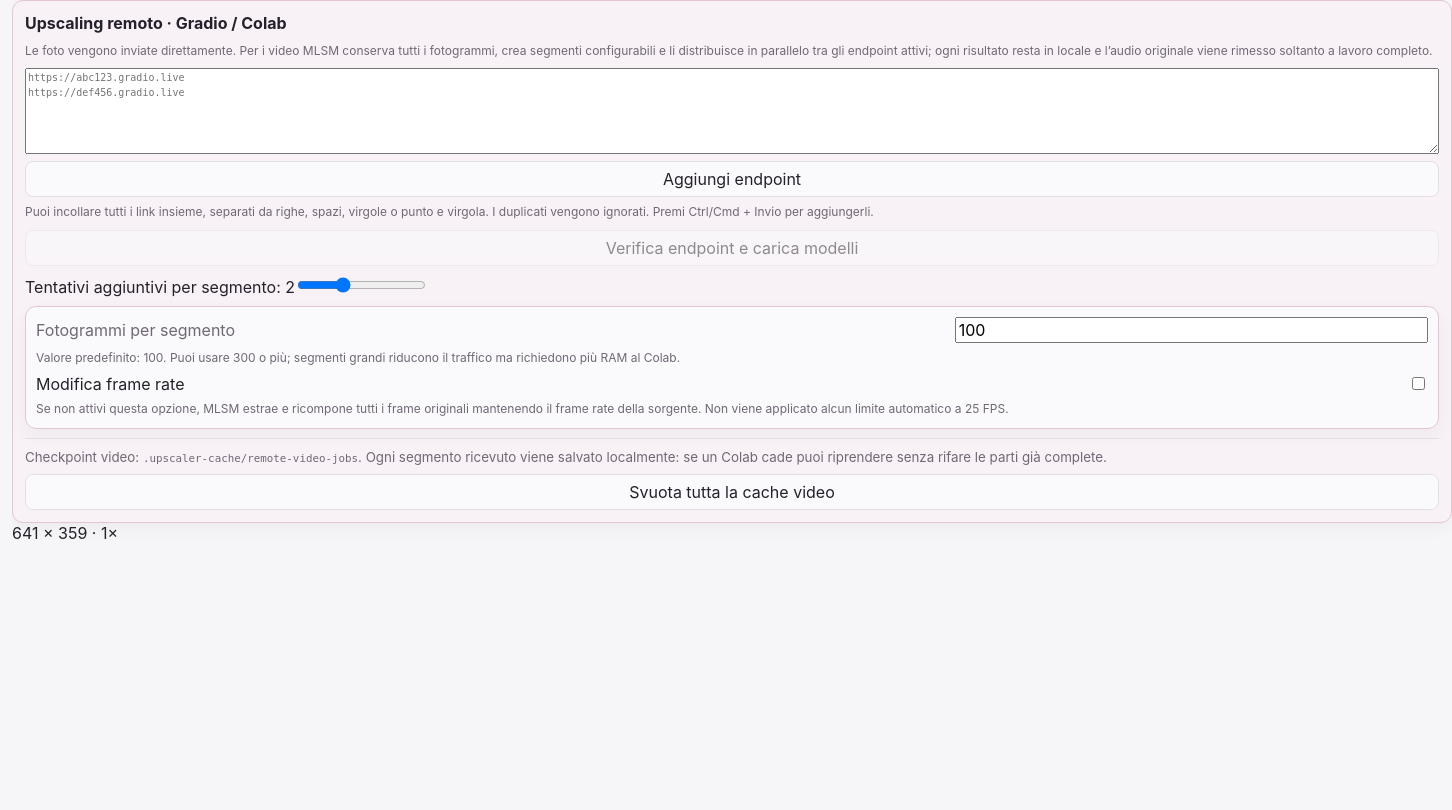
Test: RemoteUpscalerPanel › richiede conferma e svuota tutta la cache locale una sola volta
This screenshot has width=1452, height=810.
Click the button "Svuota tutta la cache video" at (732, 492), box [25,474,1439,510]
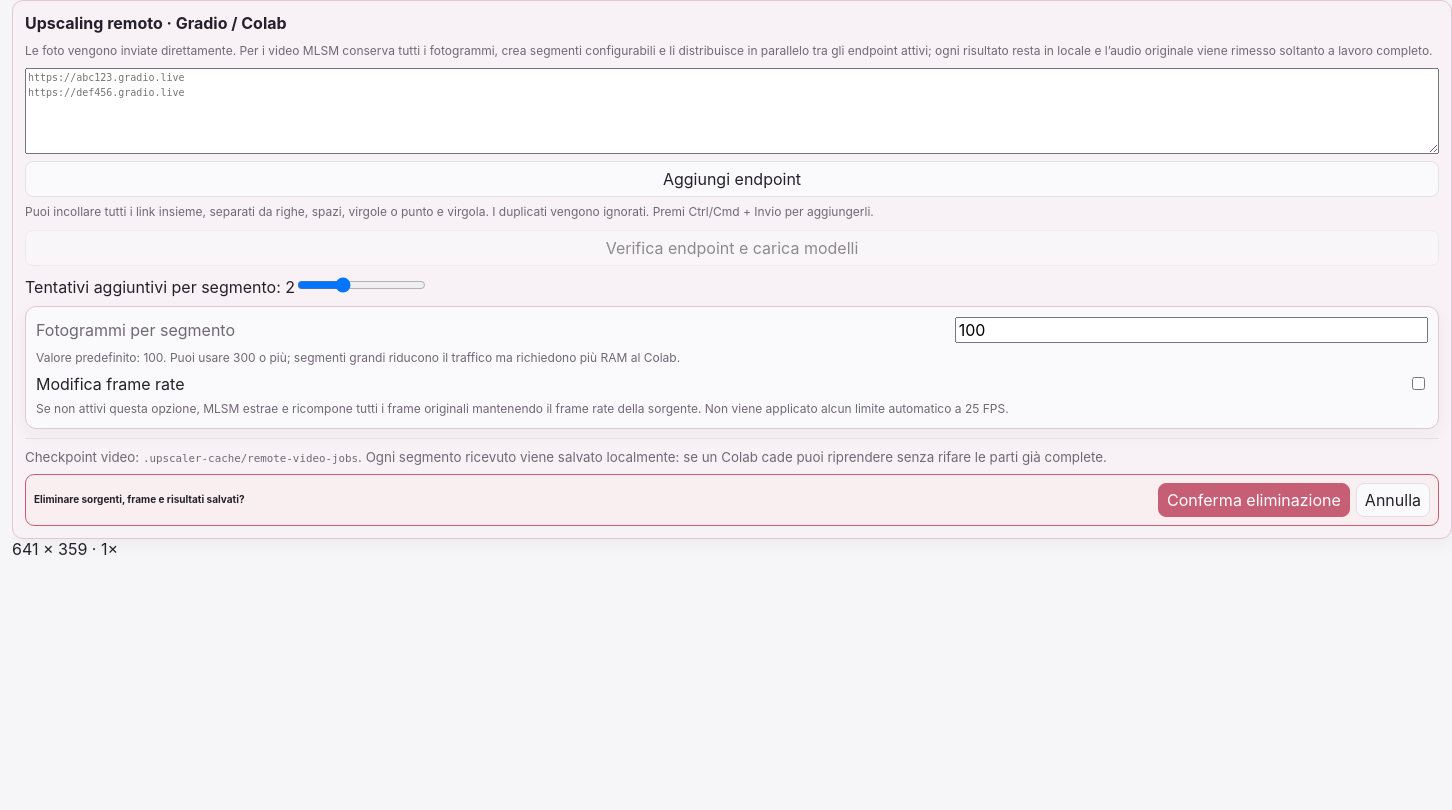
Expected: the element named "Conferma pulizia cache video" is shown, [25,474,1439,526]
Click the button "Conferma eliminazione" at (1254, 500), box [1158,483,1350,517]
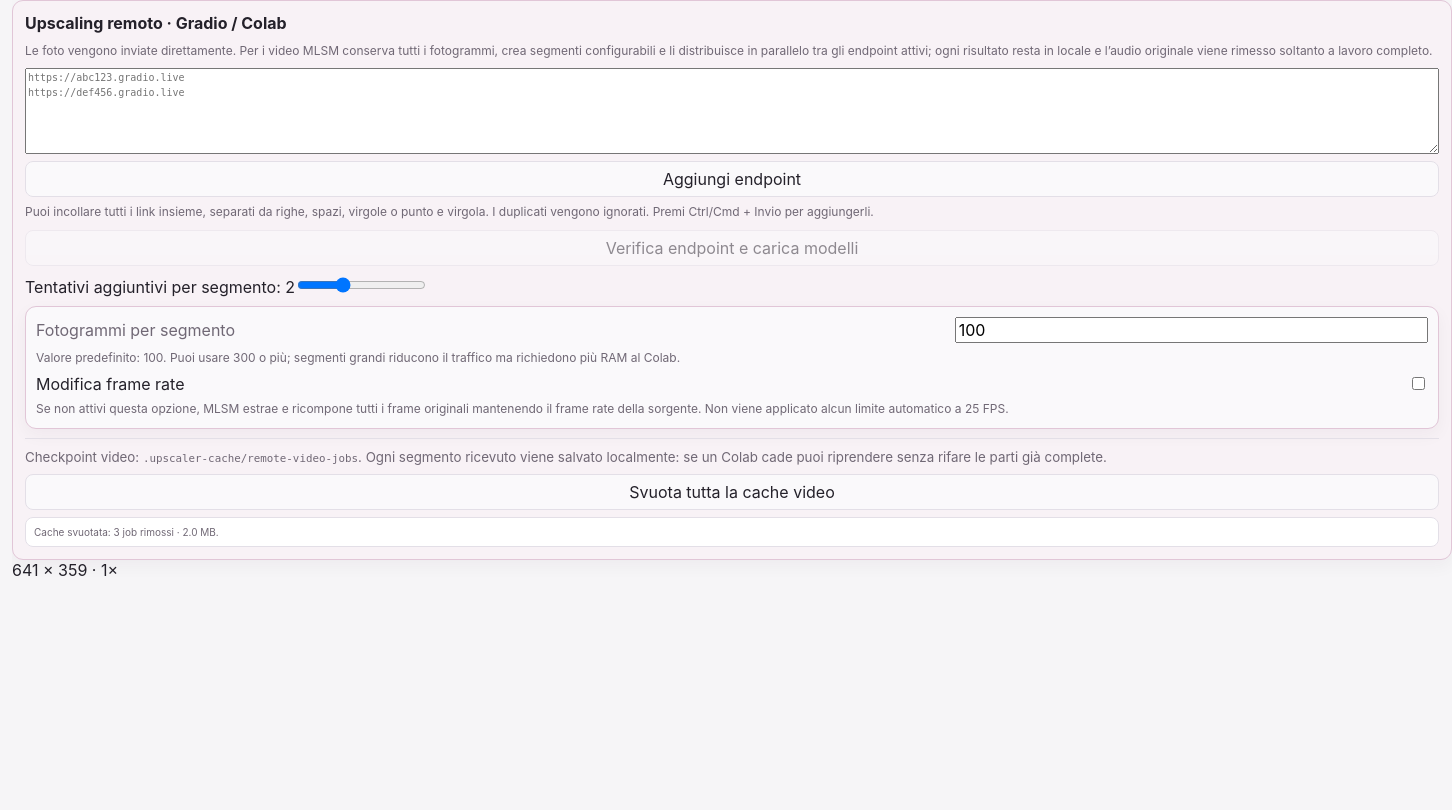
Expected: the text "Cache svuotata: 3 job rimossi · 2.0 MB." is shown, [25,517,1439,547]
